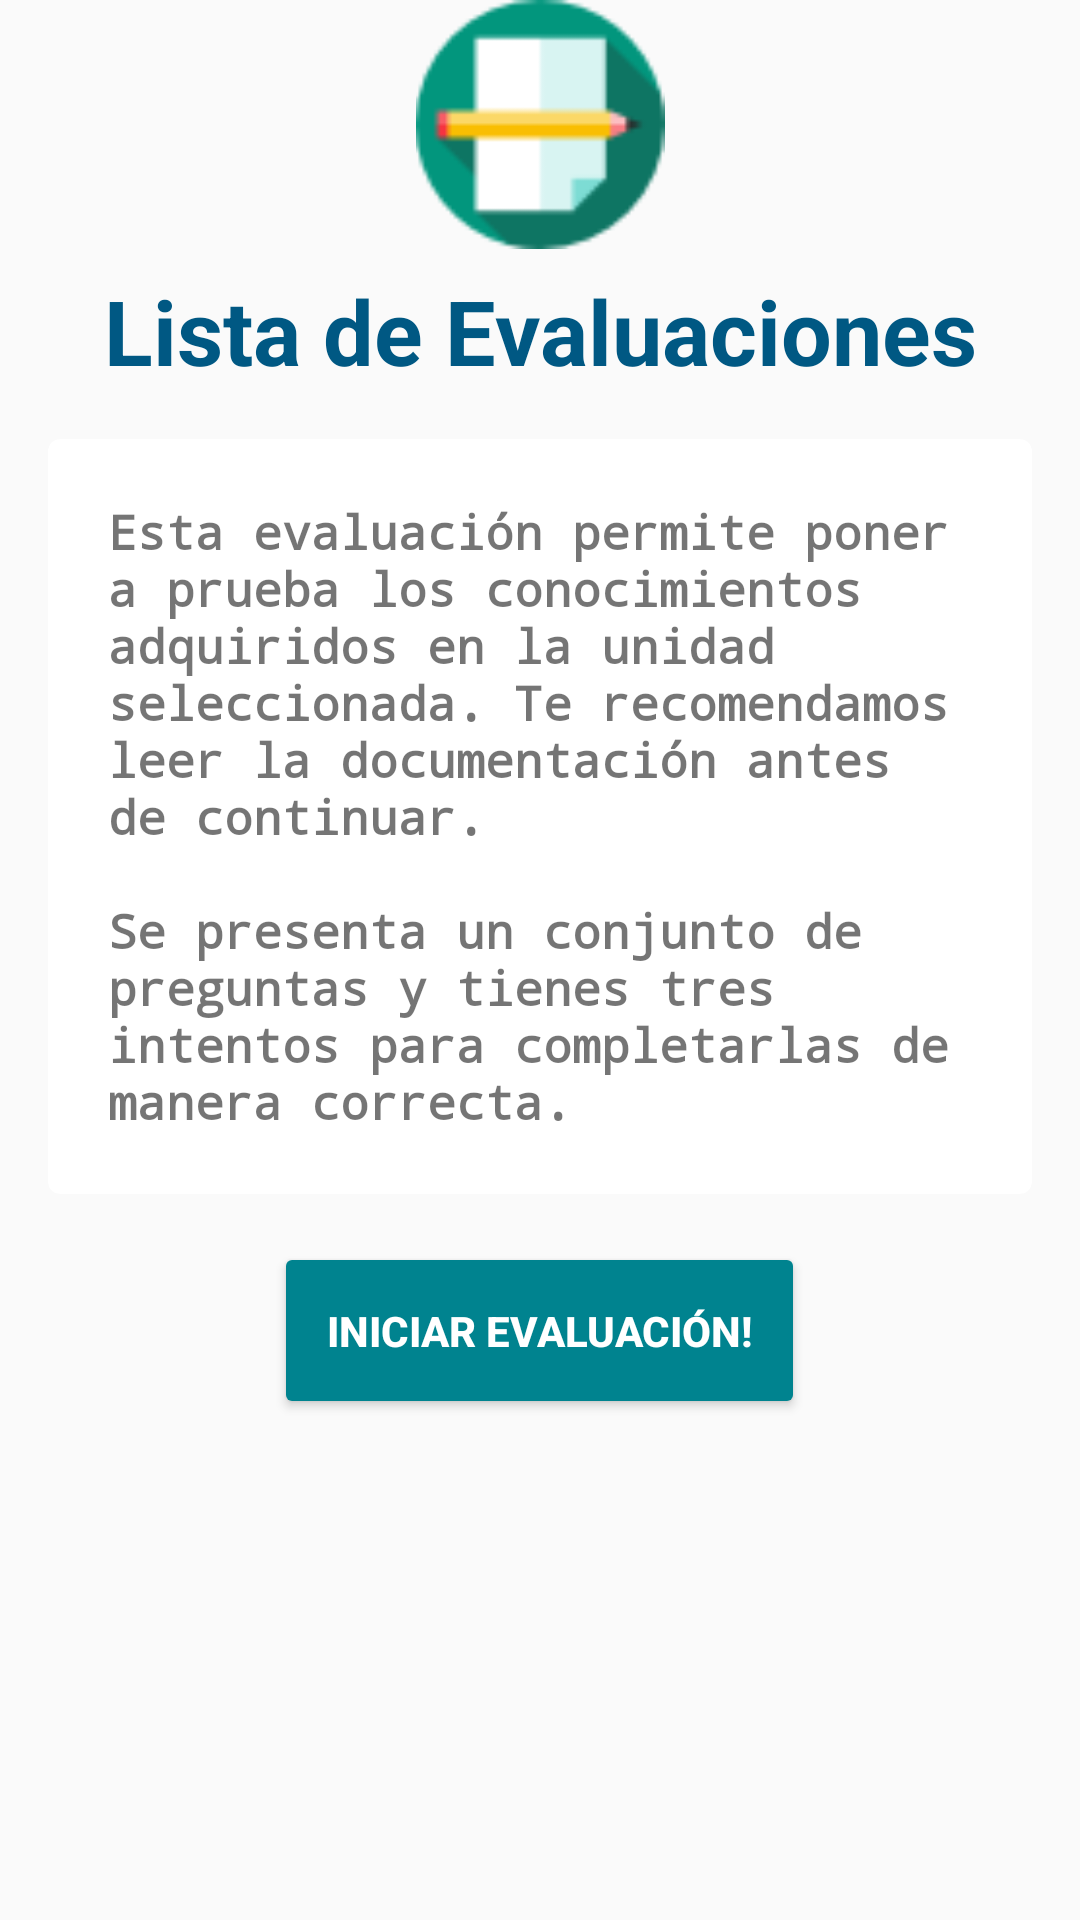

Named icons in this screenshot (1080 × 1920) and their bounding boxes, (x1, y1, x2, y2):
quiz: (416, 0, 665, 249)
